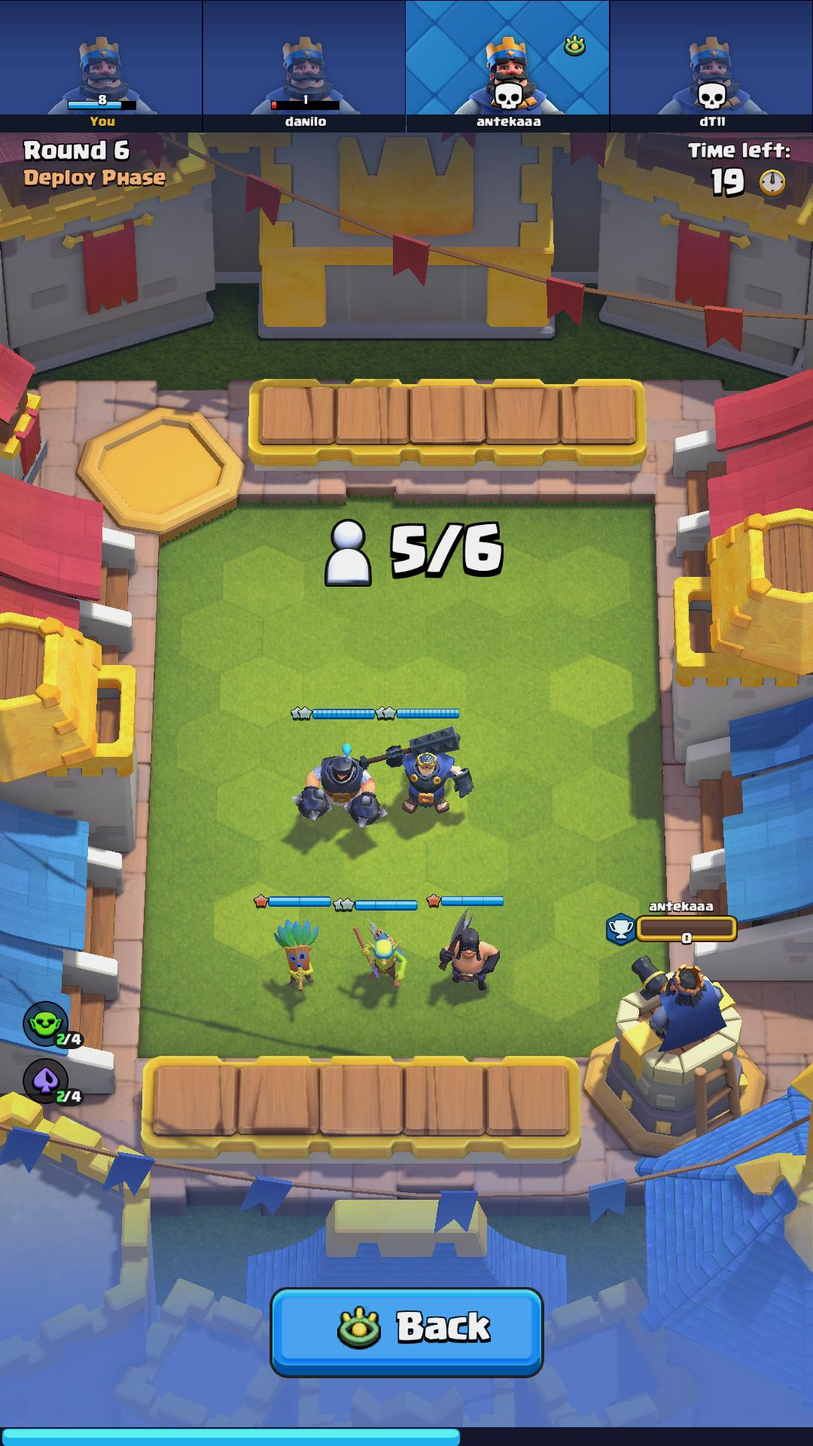dart: (272, 915, 321, 992)
executioner: (438, 905, 501, 995)
king: (389, 729, 472, 817)
mega: (296, 739, 385, 827)
spear: (350, 914, 410, 990)
